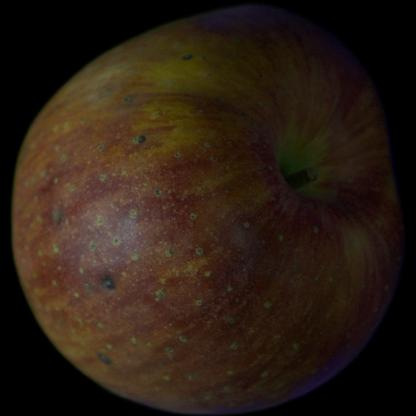defect: (73, 63, 167, 369)
